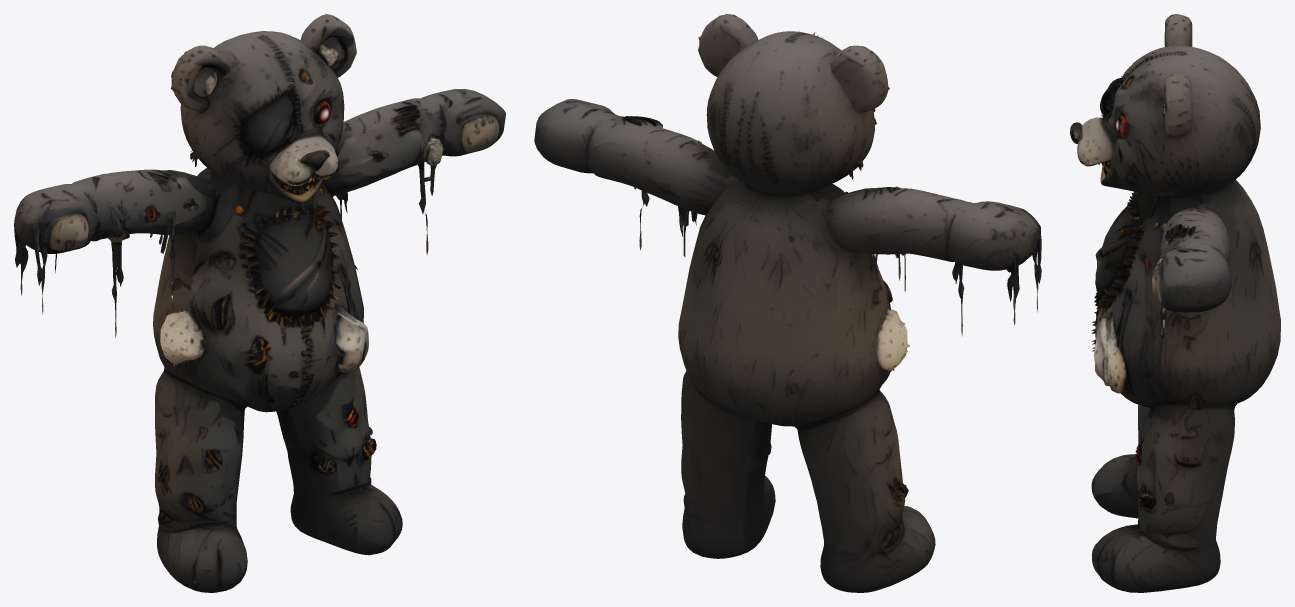
Rendered from base_basic_shaded.fbx.
The picture shows the model from 3 angles, left to right: view 1: azimuth 30°, elevation 25°; view 2: azimuth 150°, elevation 25°; view 3: azimuth 270°, elevation 25°; orthographic projection. The views are drawn at different scales.
Visible parts, largest first — view 1: model; view 2: model; view 3: model.
Boxes of the visible parts, x1,y1,x2,y2 form: model: (14, 14, 505, 592); model: (534, 14, 1041, 592); model: (1070, 14, 1280, 592).
Size of the model in its own units: 173 by 179 by 68.16.
